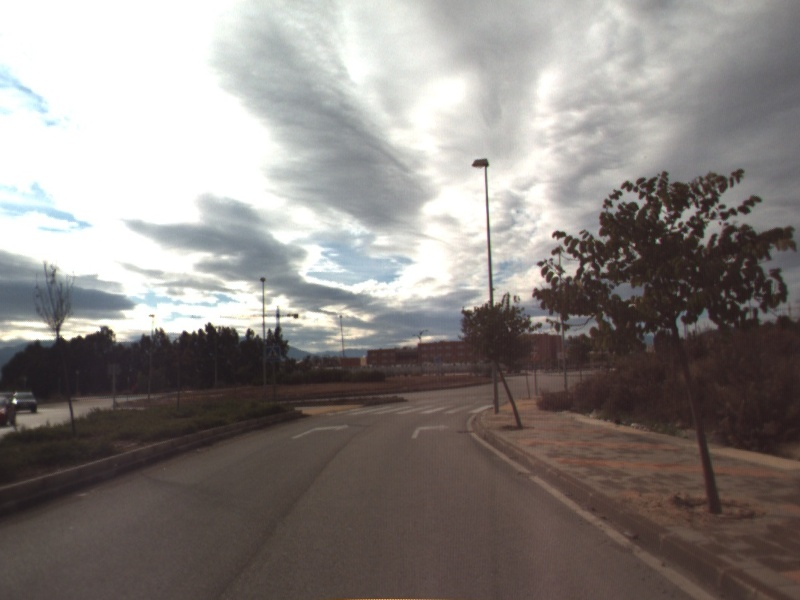RIGHT: (289, 421, 351, 441), (409, 421, 452, 440)
